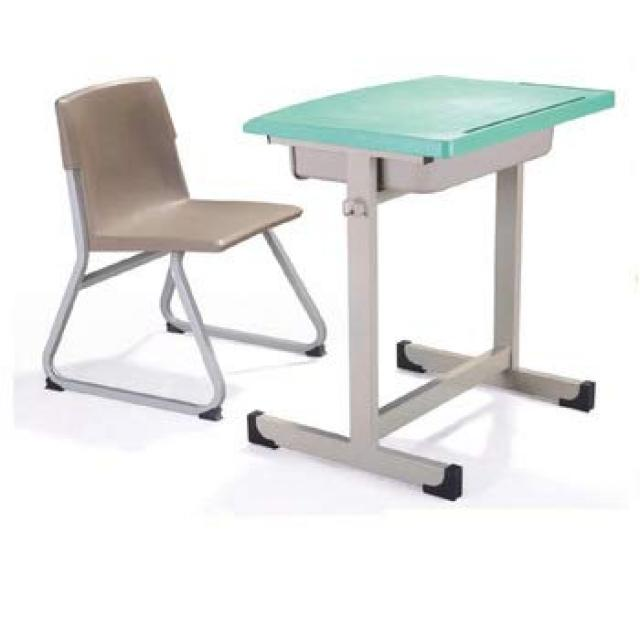chair: (30, 52, 299, 440)
table: (288, 24, 640, 541)
